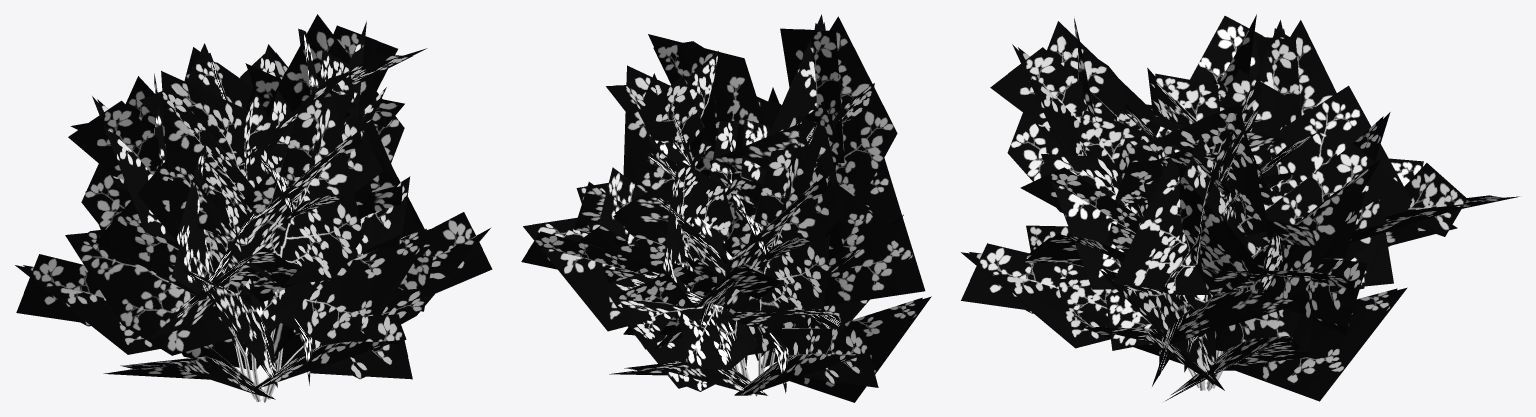
The model's file is bush_spicebush_c.gltf.
The picture shows the model from 3 angles, left to right: view 1: azimuth 30°, elevation 25°; view 2: azimuth 150°, elevation 25°; view 3: azimuth 270°, elevation 25°; orthographic projection. The views are drawn at different scales.
Parts seen in each view (by area): view 1: E:\SteamLibrary\steamapps\common\sbox\addons\rust\models\rus (×2); view 2: E:\SteamLibrary\steamapps\common\sbox\addons\rust\models\rus (×2); view 3: E:\SteamLibrary\steamapps\common\sbox\addons\rust\models\rus (×2).
Boxes of the visible parts, x1,y1,x2,y2 form: E:\SteamLibrary\steamapps\common\sbox\addons\rust\models\rus (×2): (15,14,492,402); E:\SteamLibrary\steamapps\common\sbox\addons\rust\models\rus (×2): (521,14,931,402); E:\SteamLibrary\steamapps\common\sbox\addons\rust\models\rus (×2): (961,14,1519,401).
Bounding box in the file's own units: 3.82 × 3.32 × 4.6.
